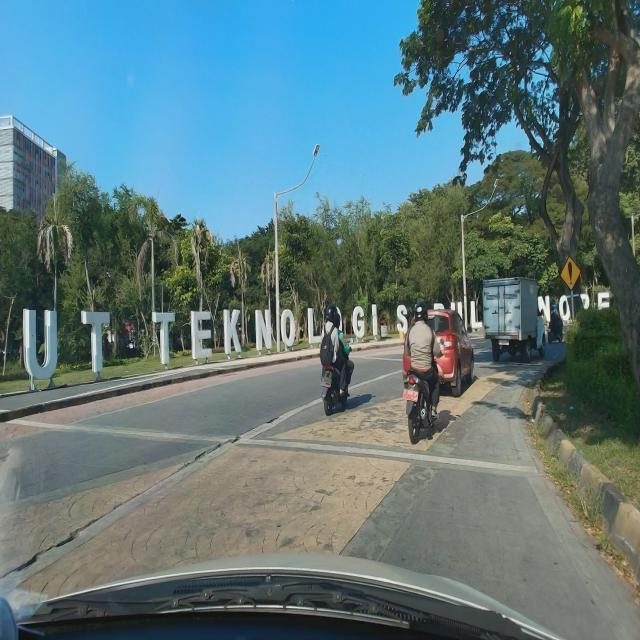car: (402, 306, 476, 398)
license-plate: (498, 339, 509, 345)
truck: (482, 277, 547, 363)
